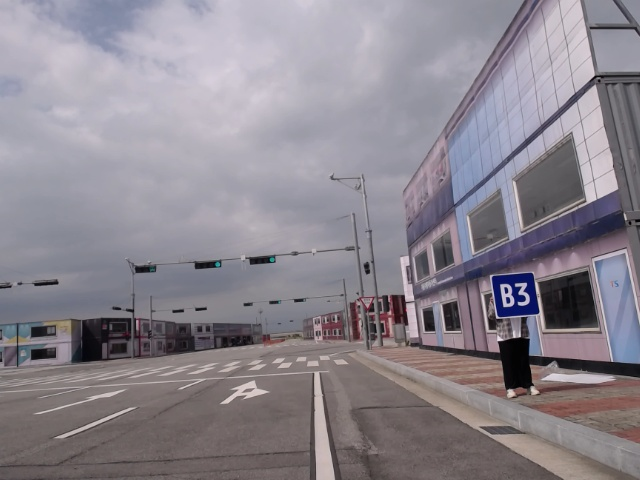delivery_b3: (487, 271, 544, 319)
straight_green_4: (246, 255, 276, 267), (193, 259, 222, 271), (293, 297, 308, 304), (269, 300, 283, 305)
